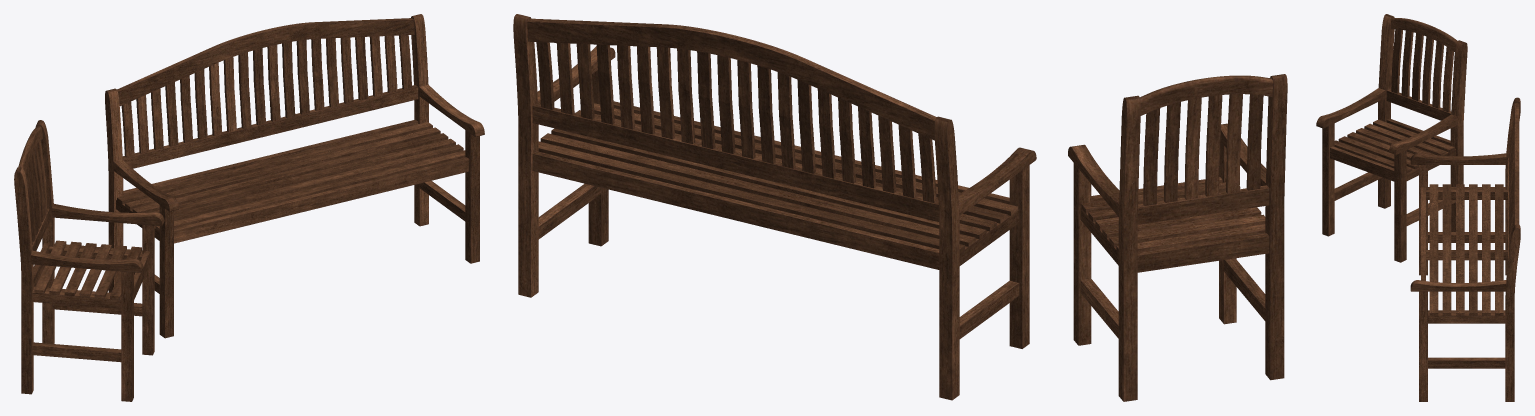
Rendered from bench.glb.
The picture shows the model from 3 angles, left to right: view 1: azimuth 30°, elevation 25°; view 2: azimuth 150°, elevation 25°; view 3: azimuth 270°, elevation 25°; orthographic projection. The views are drawn at different scales.
Visible parts, largest first — view 1: Object_2, Object_3; view 2: Object_2, Object_3; view 3: Object_3, Object_2.
Boxes of the visible parts, x1,y1,x2,y2 form: Object_2: (105,14,484,338); Object_3: (14,120,164,401); Object_2: (513,14,1036,400); Object_3: (1068,74,1287,401); Object_3: (1316,14,1467,262); Object_2: (1410,97,1520,401).
Bounding box in the file's own units: 291 × 131 × 126.
Materials: 1 (1 with a texture image).
